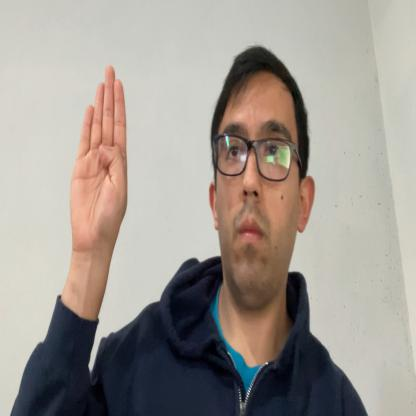B: (68, 63, 128, 256)
